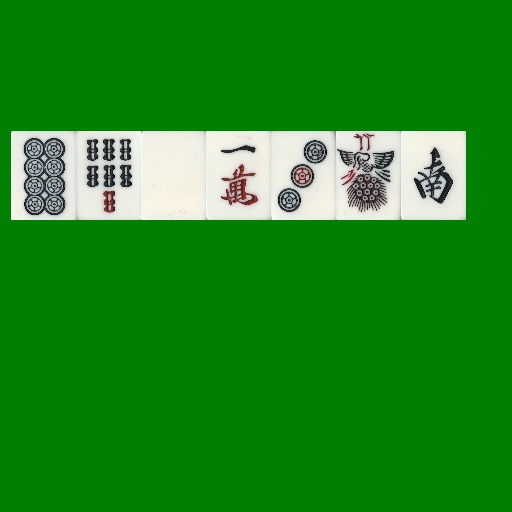1m: (206, 131, 271, 220)
1s: (336, 131, 401, 220)
3p: (271, 131, 336, 220)
7s: (76, 131, 141, 220)
8p: (11, 131, 76, 220)
south: (401, 131, 466, 220)
white: (141, 131, 206, 220)
